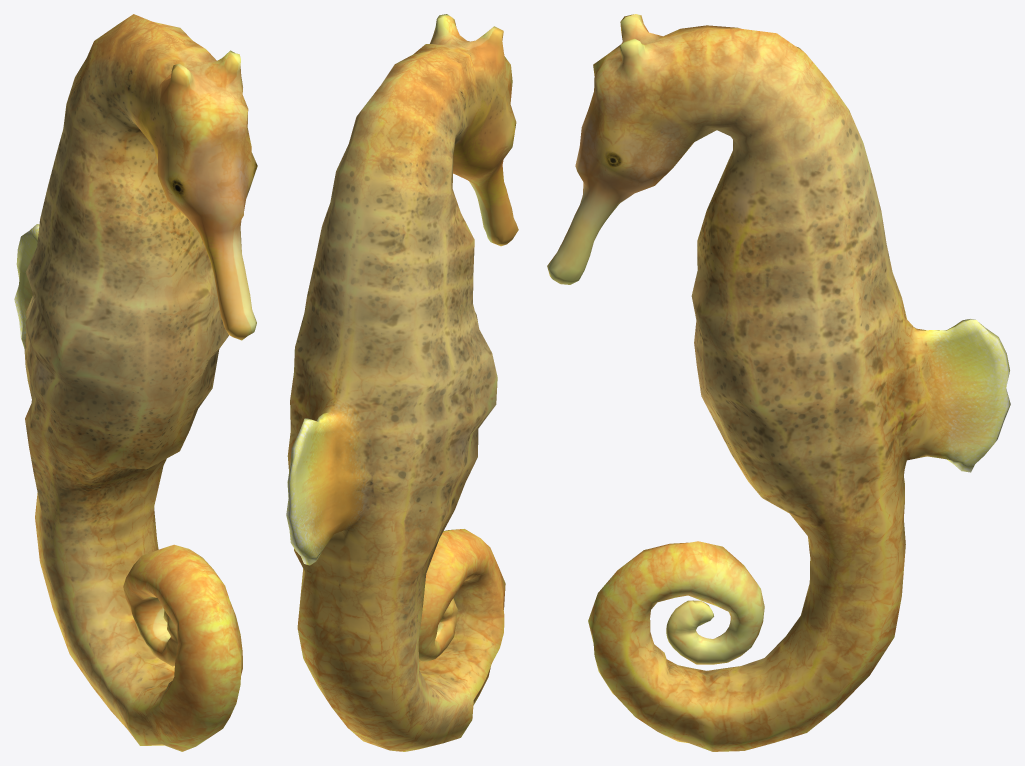
File: seahorse.glb
3 views of the same model, side by side, from view 1: azimuth 30°, elevation 25°; view 2: azimuth 150°, elevation 25°; view 3: azimuth 270°, elevation 25° (orthographic). The views are drawn at different scales.
Visible parts, largest first — view 1: Object_2; view 2: Object_2; view 3: Object_2.
Part boxes in pixels (box(x1,y1,x2,y2)): Object_2: box(14, 14, 257, 751); Object_2: box(286, 14, 518, 751); Object_2: box(547, 14, 1010, 751).
Bounding box in the file's own units: 39.86 × 149 × 86.64.
Materials: 1 (1 with a texture image).
